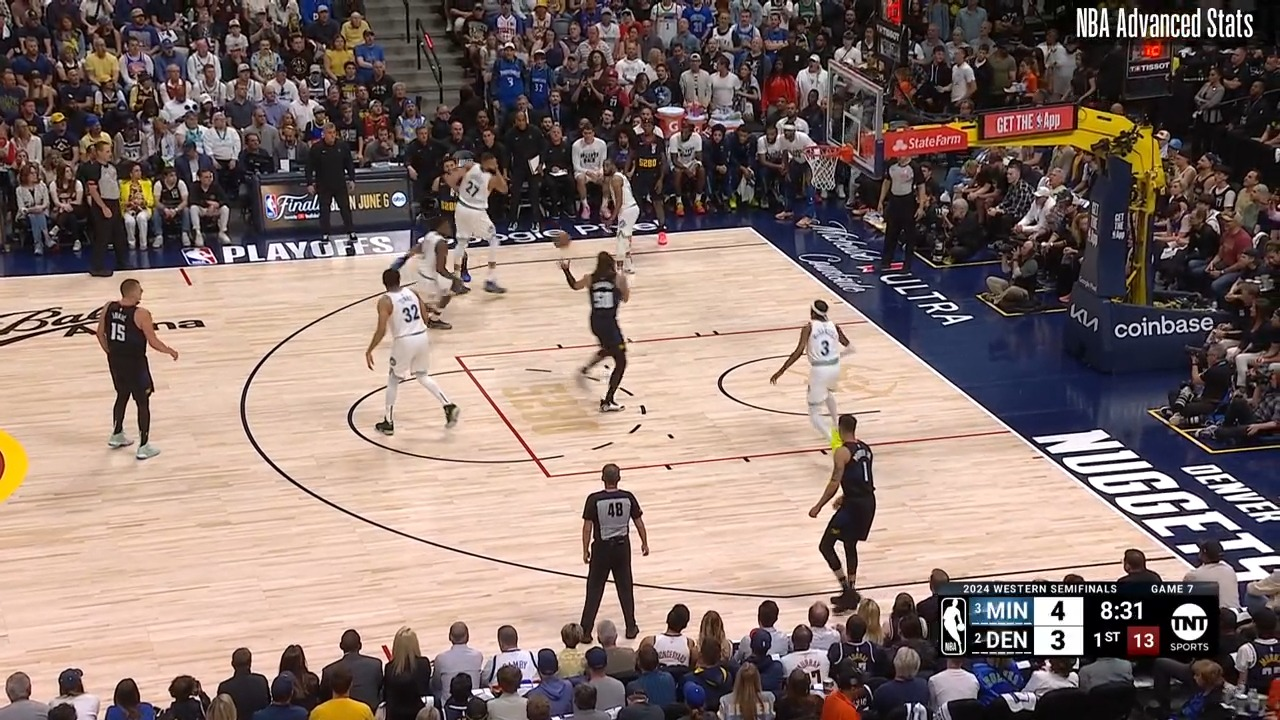basketball: (552, 230, 572, 250)
